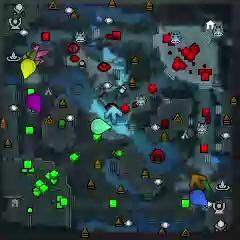p1: (189, 189, 208, 206)
p2: (90, 118, 111, 134)
p3: (26, 94, 42, 113)
p4: (21, 59, 36, 79)
x1: (31, 44, 48, 63)
x2: (22, 50, 40, 65)
x3: (105, 106, 123, 124)
x4: (199, 179, 213, 198)
x5: (189, 173, 206, 191)
